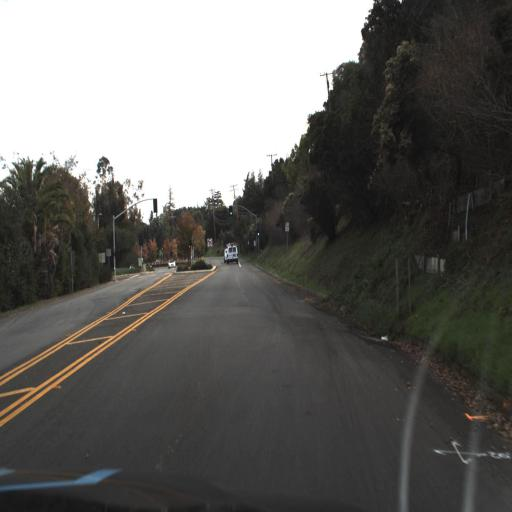car: (224, 242, 244, 265), (167, 254, 178, 270), (166, 257, 175, 272)
trafficLight-Green: (252, 218, 261, 246), (227, 200, 236, 224), (259, 224, 266, 240), (227, 206, 233, 221)
